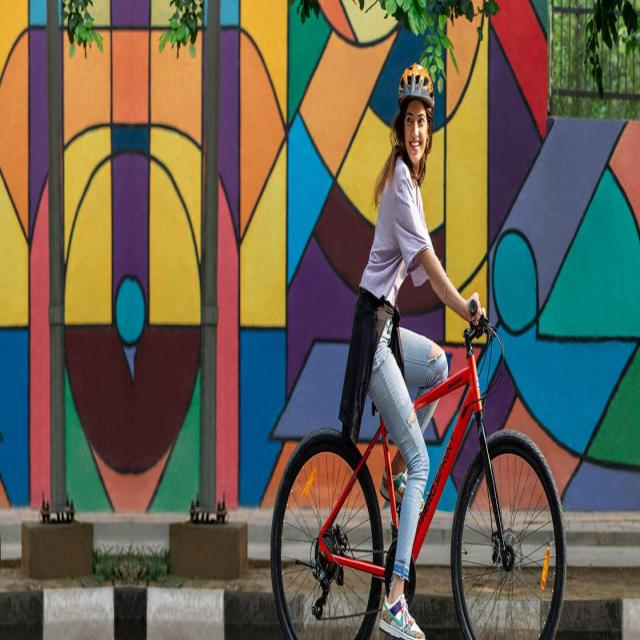bicycle: (271, 64, 566, 640)
